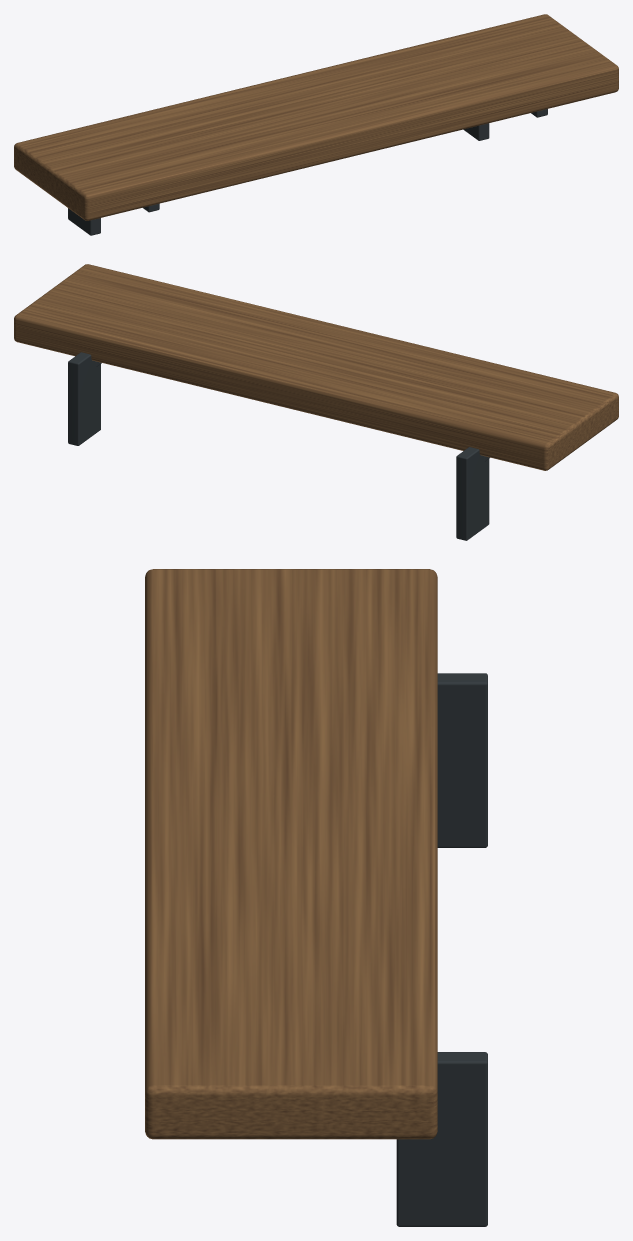
File: industrial_loft_floating_shelf.glb
3 views of the same model, one above another, from view 1: azimuth 30°, elevation 25°; view 2: azimuth 150°, elevation 25°; view 3: azimuth 270°, elevation 25° (orthographic). The views are drawn at different scales.
Visible parts, largest first — view 1: floating_shelf.001; view 2: floating_shelf.001; view 3: floating_shelf.001.
Boxes of the visible parts, left/top/right/bottom form: floating_shelf.001: left=14, top=14, right=618, bottom=235; floating_shelf.001: left=14, top=264, right=618, bottom=540; floating_shelf.001: left=145, top=569, right=487, bottom=1226.
Bounding box in the file's own units: 1.35 × 0.248 × 0.375.
4 materials, 4 textured.
